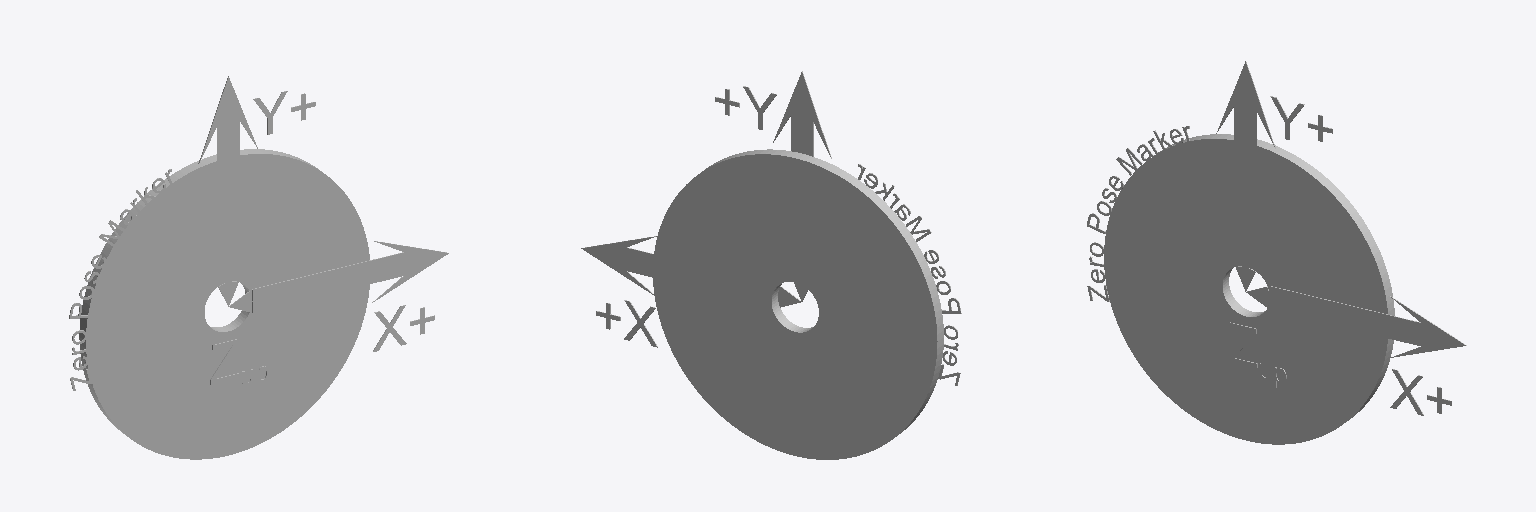
Rendered from Zero Pose Marker v1.obj.
The picture shows the model from 3 angles: view 1: azimuth 30°, elevation 25°; view 2: azimuth 150°, elevation 25°; view 3: azimuth 330°, elevation 25°; orthographic projection.
Visible parts, largest first — view 1: Body1, Body12; view 2: Body1, Body12; view 3: Body1, Body12.
Boxes of the visible parts, x1,y1,x2,y2 form: Body1: [79, 149, 369, 459]; Body12: [198, 76, 448, 312]; Body1: [653, 149, 943, 459]; Body12: [581, 71, 831, 307]; Body1: [1104, 134, 1394, 444]; Body12: [1216, 61, 1466, 357].
Bounding box in the file's own units: 0.1018 × 0.0972 × 0.0033.